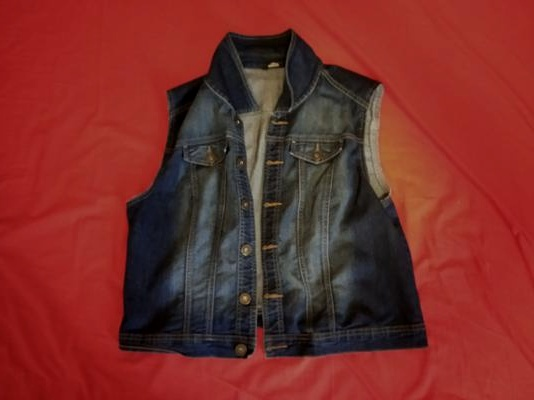Blazer: (99, 46, 434, 362)
